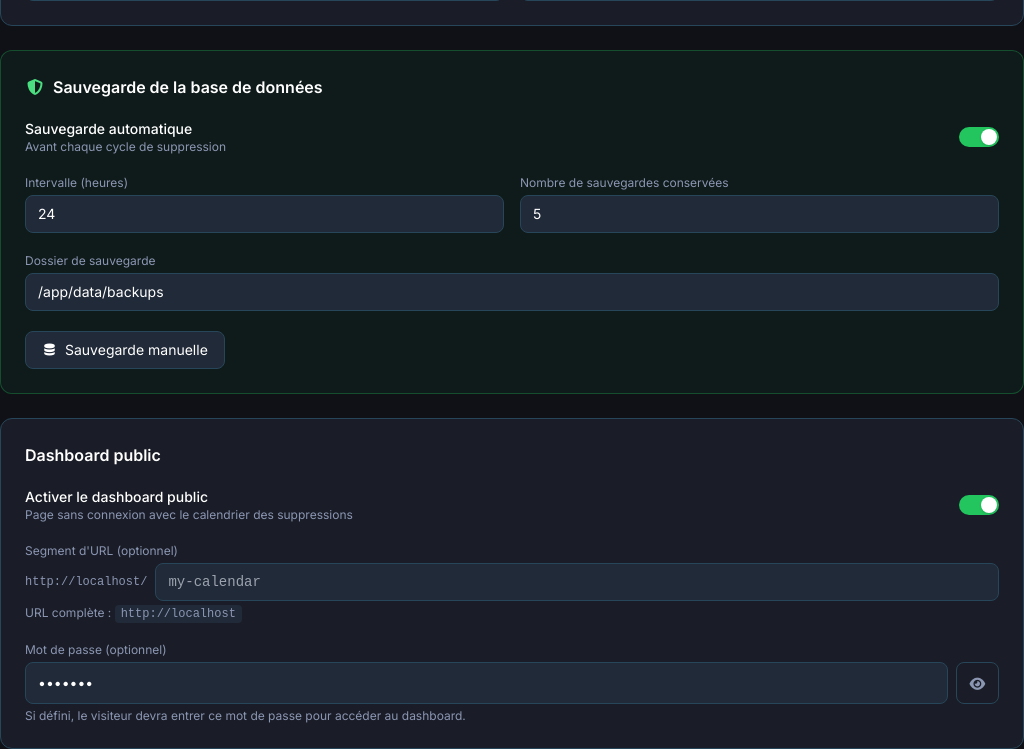
Scenario: GeneralTab › toggling the password eye icon switches the password field to plain text
(page scrolled)
Click the 2nd button.
click(977, 683)  # box [956,662,999,704]
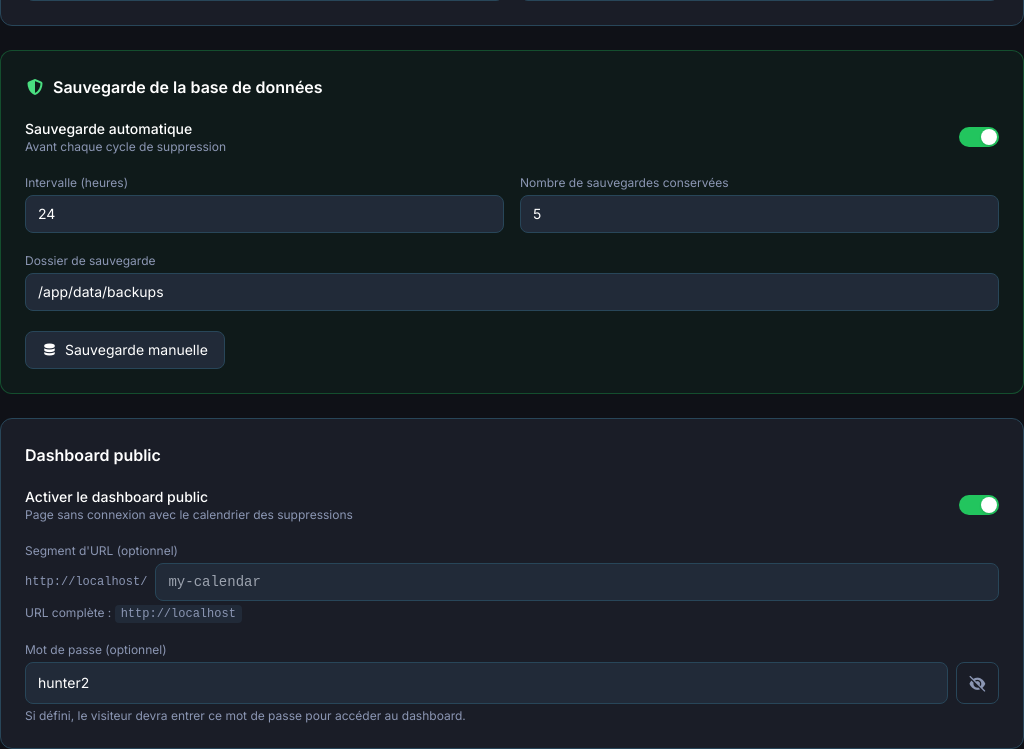
Expected: the field below "Mot de passe (optionnel)" shows its text, [25,662,948,704]
